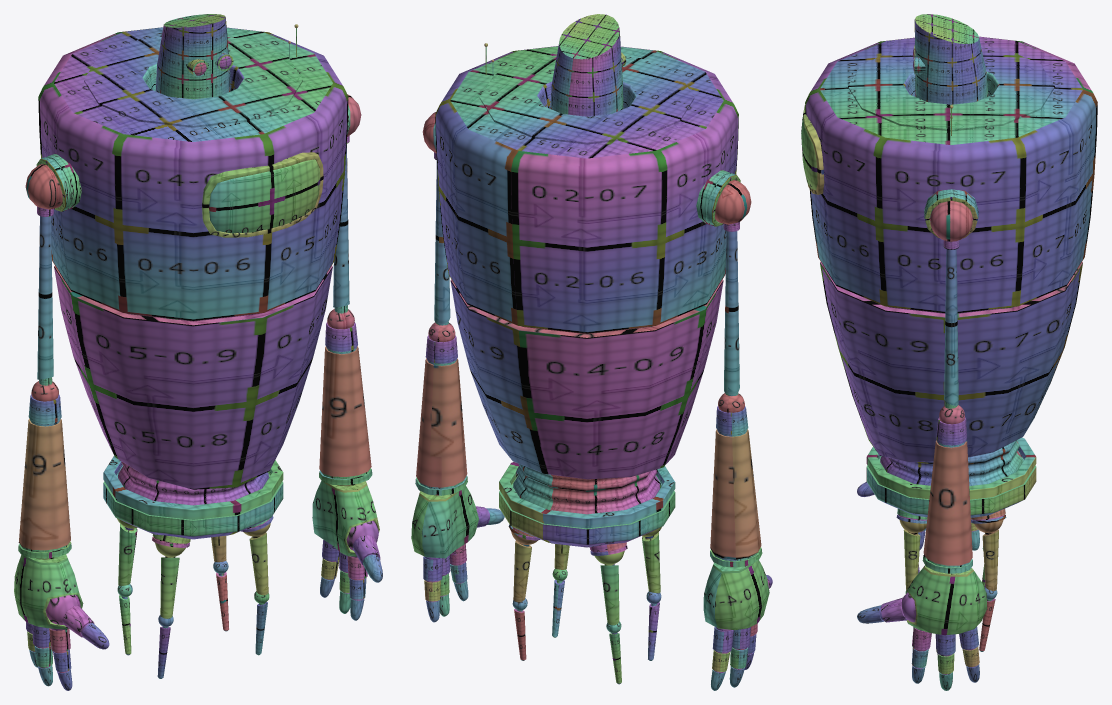
File: RobotUVsUpdated.fbx
3 renders of one model, left to right at view 1: azimuth 30°, elevation 25°; view 2: azimuth 150°, elevation 25°; view 3: azimuth 270°, elevation 25°, orthographic. The views are drawn at different scales.
Visible parts, largest first — view 1: Torso_Geo, R_Elbow_Geo, Hip_Geo, L_Elbow_Geo, Head_Geo, R_Shoulder_Geo, L_FT_Thigh_Geo, polySurface3, polySurface2, Spine_Geo, L_FT_Knee_Geo, L_Shoulder_Geo (+2 smaller); view 2: Torso_Geo, Hip_Geo, R_Elbow_Geo, L_Elbow_Geo, Head_Geo, Spine_Geo, polySurface3, polySurface2, R_Shoulder_Geo, L_FT_Thigh_Geo, L_FT_Knee_Geo, L_Shoulder_Geo; view 3: Torso_Geo, L_Elbow_Geo, Head_Geo, Hip_Geo, polySurface2, L_Shoulder_Geo, Spine_Geo, L_FT_Thigh_Geo, L_Finger_01_Joint_01_Geo, L_FT_Knee_Geo.
Part boxes in pixels (x1=…): Torso_Geo: x1=36, y1=24, x2=350, y2=489; R_Elbow_Geo: x1=18, y1=381, x2=71, y2=558; Hip_Geo: x1=103, y1=456, x2=283, y2=547; L_Elbow_Geo: x1=319, y1=309, x2=372, y2=485; Head_Geo: x1=155, y1=14, x2=233, y2=99; R_Shoulder_Geo: x1=25, y1=164, x2=62, y2=385; L_FT_Thigh_Geo: x1=117, y1=518, x2=270, y2=618; polySurface3: x1=14, y1=554, x2=83, y2=629; polySurface2: x1=312, y1=481, x2=379, y2=556; Spine_Geo: x1=118, y1=461, x2=268, y2=505; L_FT_Knee_Geo: x1=117, y1=561, x2=269, y2=678; L_Shoulder_Geo: x1=333, y1=94, x2=361, y2=313; Torso_Geo: x1=433, y1=43, x2=740, y2=479; Hip_Geo: x1=499, y1=462, x2=675, y2=555; R_Elbow_Geo: x1=710, y1=393, x2=762, y2=567; L_Elbow_Geo: x1=415, y1=322, x2=467, y2=495; Head_Geo: x1=550, y1=14, x2=626, y2=116; Spine_Geo: x1=513, y1=464, x2=660, y2=514; polySurface3: x1=703, y1=560, x2=769, y2=630; polySurface2: x1=411, y1=486, x2=478, y2=558; R_Shoulder_Geo: x1=715, y1=180, x2=751, y2=396; L_FT_Thigh_Geo: x1=511, y1=527, x2=661, y2=625; L_FT_Knee_Geo: x1=512, y1=568, x2=661, y2=684; L_Shoulder_Geo: x1=422, y1=112, x2=450, y2=325; Torso_Geo: x1=801, y1=36, x2=1097, y2=462; L_Elbow_Geo: x1=922, y1=405, x2=972, y2=573; Head_Geo: x1=913, y1=14, x2=988, y2=104; Hip_Geo: x1=866, y1=437, x2=1036, y2=523; polySurface2: x1=907, y1=565, x2=987, y2=635; L_Shoulder_Geo: x1=930, y1=200, x2=972, y2=408; Spine_Geo: x1=880, y1=440, x2=1022, y2=485; L_FT_Thigh_Geo: x1=899, y1=520, x2=1003, y2=590; L_Finger_01_Joint_01_Geo: x1=881, y1=592, x2=916, y2=622; L_FT_Knee_Geo: x1=905, y1=546, x2=997, y2=651.
Size of the model in its own units: 9.14 by 16.07 by 7.09.
Materials: 3 (3 with a texture image).
